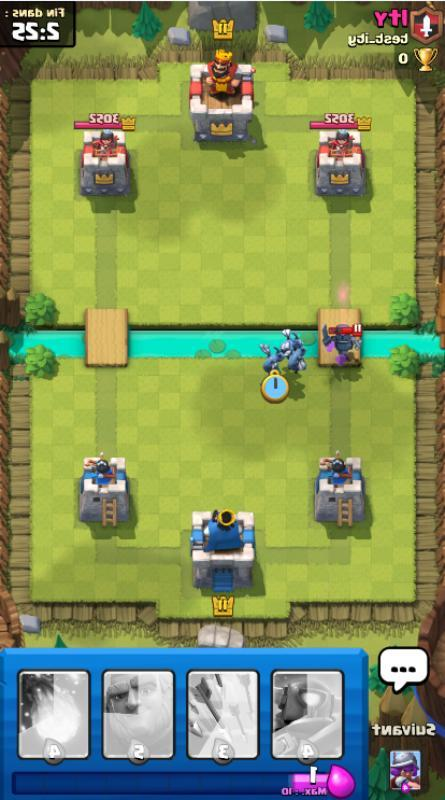gargouille: (258, 343, 285, 376), (284, 345, 307, 375), (281, 329, 303, 360)
mini_PEKKA: (321, 322, 363, 357)
